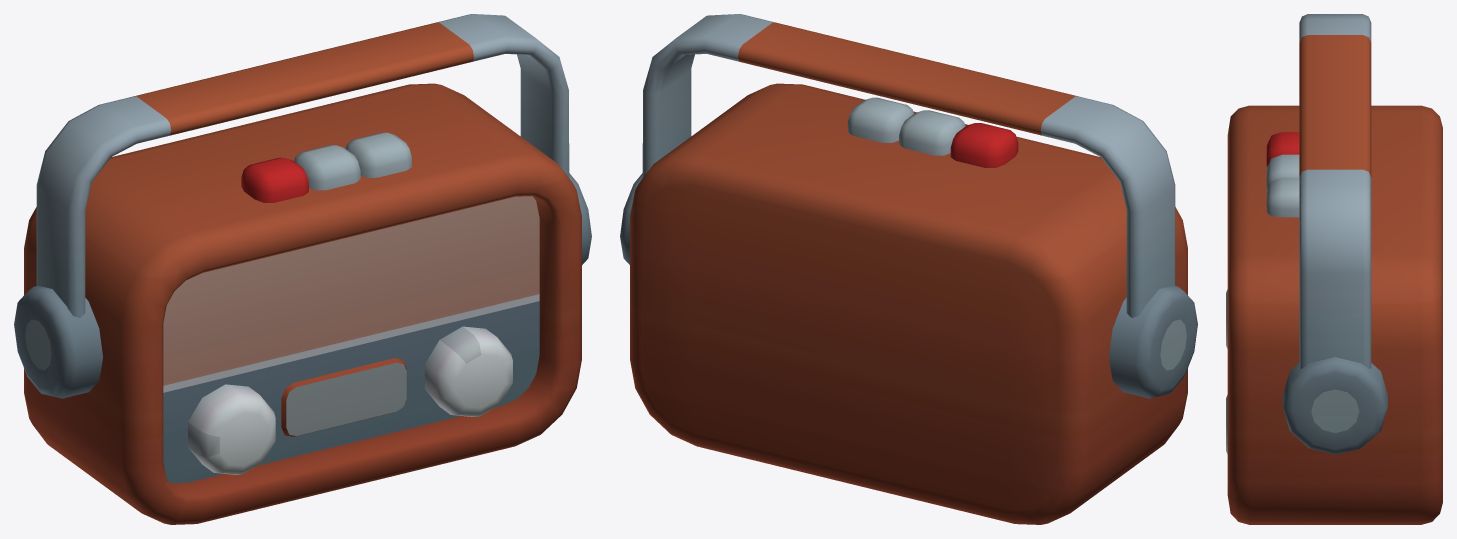
Rendered from Audio_02.glb.
3 views of the same model, side by side, from view 1: azimuth 30°, elevation 25°; view 2: azimuth 150°, elevation 25°; view 3: azimuth 270°, elevation 25° (orthographic). The views are drawn at different scales.
Parts seen in each view (by area): view 1: Audio_02; view 2: Audio_02; view 3: Audio_02.
Boxes of the visible parts, bbox=[...] form: Audio_02: bbox=[14, 14, 591, 524]; Audio_02: bbox=[620, 14, 1197, 524]; Audio_02: bbox=[1226, 14, 1442, 524].
Bounding box in the file's own units: 0.3818 × 0.2612 × 0.1488.
Materials: 1 (1 with a texture image).
